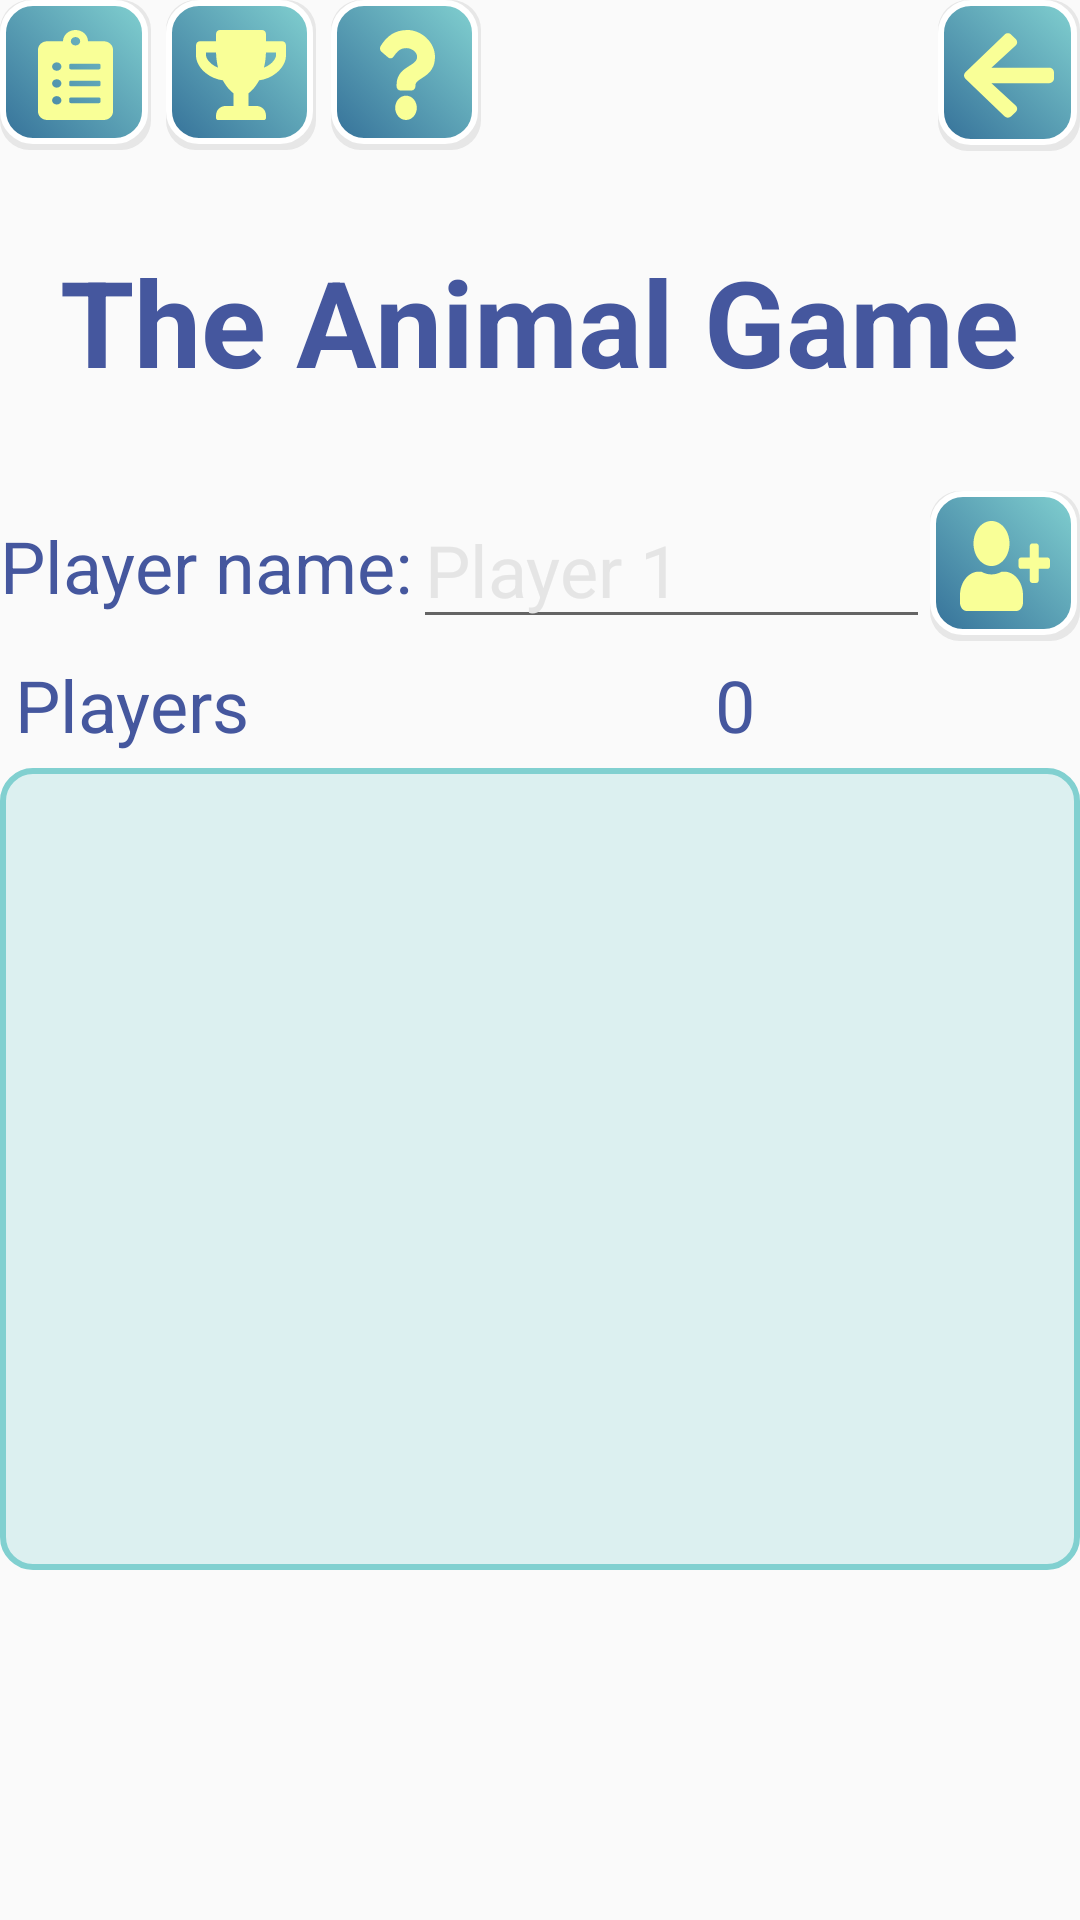

Point at icon controls on the screen. Image size 1080w x 1920h, points as (x,y).
Add player: (1003,563)
high scores: (239,72)
quit: (1007,72)
